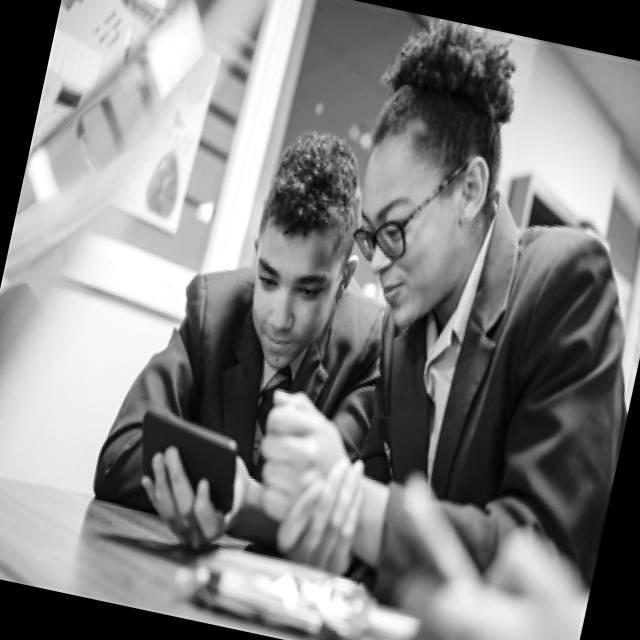phone: (386, 467, 505, 591), (128, 407, 250, 516)
